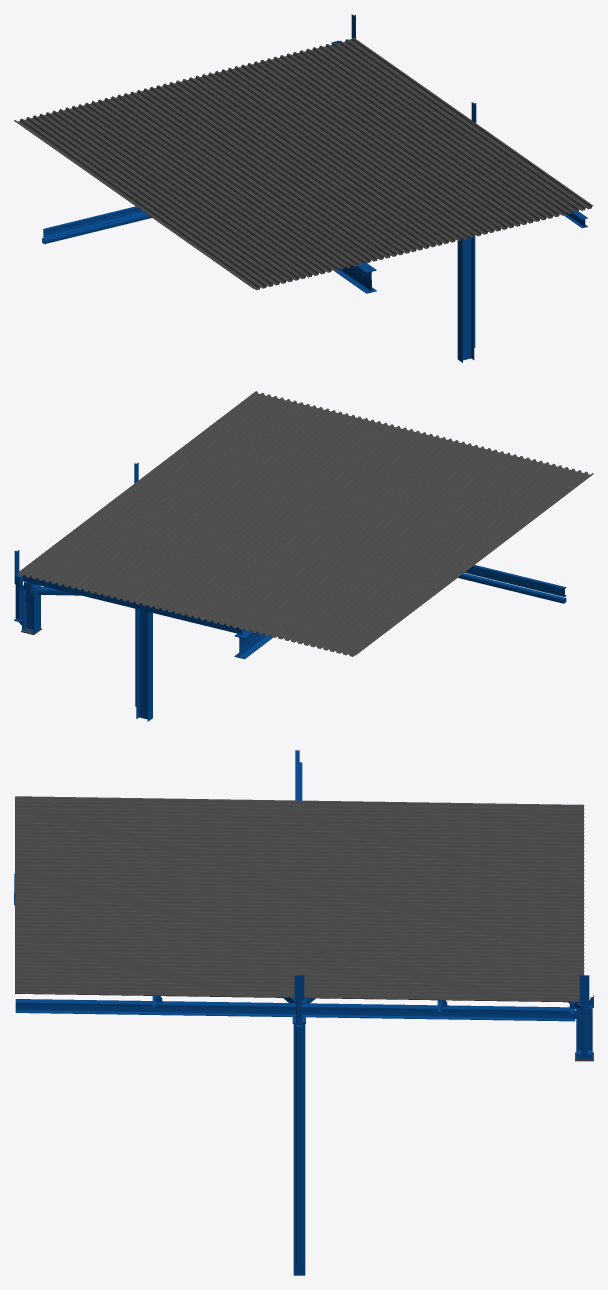
File: GCC-AAV-13220-30.nwd(8).fbx
3 views of the same model, one above another, from view 1: azimuth 30°, elevation 25°; view 2: azimuth 150°, elevation 25°; view 3: azimuth 270°, elevation 25° (orthographic). The views are drawn at different scales.
Visible parts, largest first — view 1: PANEL 2 of SBFRAMEWORK /13220-BD-001-211-5206/CS/KM1/SH/+13., PANEL 130 of SBFRAMEWORK /13220-BD-001-211-5206/CS/KM1/SH/+1, PANEL 26 of SBFRAMEWORK /13220-BD-001-211-5206/CS/KM1/SH/+13, PANEL 34 of SBFRAMEWORK /13220-BD-001-211-5206/CS/KM1/SH/+13, PANEL 98 of SBFRAMEWORK /13220-BD-001-211-5206/CS/KM1/SH/+13, PANEL 90 of SBFRAMEWORK /13220-BD-001-211-5206/CS/KM1/SH/+13, PANEL 106 of SBFRAMEWORK /13220-BD-001-211-5206/CS/KM1/SH/+1, PANEL 10 of SBFRAMEWORK /13220-BD-001-211-5206/CS/KM1/SH/+13, PANEL 18 of SBFRAMEWORK /13220-BD-001-211-5206/CS/KM1/SH/+13, PANEL 42 of SBFRAMEWORK /13220-BD-001-211-5206/CS/KM1/SH/+13, PANEL 114 of SBFRAMEWORK /13220-BD-001-211-5206/CS/KM1/SH/+1, PANEL 74 of SBFRAMEWORK /13220-BD-001-211-5206/CS/KM1/SH/+13 (+8 smaller); view 2: PANEL 2 of SBFRAMEWORK /13220-BD-001-211-5206/CS/KM1/SH/+13., PANEL 130 of SBFRAMEWORK /13220-BD-001-211-5206/CS/KM1/SH/+1, PANEL 10 of SBFRAMEWORK /13220-BD-001-211-5206/CS/KM1/SH/+13, PANEL 34 of SBFRAMEWORK /13220-BD-001-211-5206/CS/KM1/SH/+13, PANEL 74 of SBFRAMEWORK /13220-BD-001-211-5206/CS/KM1/SH/+13, PANEL 122 of SBFRAMEWORK /13220-BD-001-211-5206/CS/KM1/SH/+1, PANEL 50 of SBFRAMEWORK /13220-BD-001-211-5206/CS/KM1/SH/+13, PANEL 66 of SBFRAMEWORK /13220-BD-001-211-5206/CS/KM1/SH/+13, PANEL 82 of SBFRAMEWORK /13220-BD-001-211-5206/CS/KM1/SH/+13, PANEL 98 of SBFRAMEWORK /13220-BD-001-211-5206/CS/KM1/SH/+13, PANEL 18 of SBFRAMEWORK /13220-BD-001-211-5206/CS/KM1/SH/+13, PANEL 26 of SBFRAMEWORK /13220-BD-001-211-5206/CS/KM1/SH/+13 (+8 smaller); view 3: PANEL 2 of SBFRAMEWORK /13220-BD-001-211-5206/CS/KM1/SH/+13., Группа фасетов (×3), PANEL 130 of SBFRAMEWORK /13220-BD-001-211-5206/CS/KM1/SH/+1, PANEL 122 of SBFRAMEWORK /13220-BD-001-211-5206/CS/KM1/SH/+1, PANEL 18 of SBFRAMEWORK /13220-BD-001-211-5206/CS/KM1/SH/+13, PANEL 50 of SBFRAMEWORK /13220-BD-001-211-5206/CS/KM1/SH/+13, PANEL 58 of SBFRAMEWORK /13220-BD-001-211-5206/CS/KM1/SH/+13, PANEL 66 of SBFRAMEWORK /13220-BD-001-211-5206/CS/KM1/SH/+13, PANEL 82 of SBFRAMEWORK /13220-BD-001-211-5206/CS/KM1/SH/+13, PANEL 74 of SBFRAMEWORK /13220-BD-001-211-5206/CS/KM1/SH/+13, PANEL 90 of SBFRAMEWORK /13220-BD-001-211-5206/CS/KM1/SH/+13, PANEL 106 of SBFRAMEWORK /13220-BD-001-211-5206/CS/KM1/SH/+1 (+7 smaller).
Boxes of the visible parts, x1,y1,x2,y2 form: PANEL 2 of SBFRAMEWORK /13220-BD-001-211-5206/CS/KM1/SH/+13.: [326, 37, 593, 213]; PANEL 130 of SBFRAMEWORK /13220-BD-001-211-5206/CS/KM1/SH/+1: [14, 116, 278, 290]; PANEL 26 of SBFRAMEWORK /13220-BD-001-211-5206/CS/KM1/SH/+13: [268, 53, 532, 228]; PANEL 34 of SBFRAMEWORK /13220-BD-001-211-5206/CS/KM1/SH/+13: [248, 58, 515, 232]; PANEL 98 of SBFRAMEWORK /13220-BD-001-211-5206/CS/KM1/SH/+13: [92, 97, 356, 271]; PANEL 90 of SBFRAMEWORK /13220-BD-001-211-5206/CS/KM1/SH/+13: [112, 92, 376, 266]; PANEL 106 of SBFRAMEWORK /13220-BD-001-211-5206/CS/KM1/SH/+1: [73, 101, 337, 275]; PANEL 10 of SBFRAMEWORK /13220-BD-001-211-5206/CS/KM1/SH/+13: [307, 44, 571, 218]; PANEL 18 of SBFRAMEWORK /13220-BD-001-211-5206/CS/KM1/SH/+13: [288, 49, 551, 223]; PANEL 42 of SBFRAMEWORK /13220-BD-001-211-5206/CS/KM1/SH/+13: [229, 63, 493, 237]; PANEL 114 of SBFRAMEWORK /13220-BD-001-211-5206/CS/KM1/SH/+1: [53, 106, 317, 280]; PANEL 74 of SBFRAMEWORK /13220-BD-001-211-5206/CS/KM1/SH/+13: [151, 82, 415, 256]; PANEL 2 of SBFRAMEWORK /13220-BD-001-211-5206/CS/KM1/SH/+13.: [18, 391, 282, 580]; PANEL 130 of SBFRAMEWORK /13220-BD-001-211-5206/CS/KM1/SH/+1: [330, 469, 593, 656]; PANEL 10 of SBFRAMEWORK /13220-BD-001-211-5206/CS/KM1/SH/+13: [39, 398, 302, 585]; PANEL 34 of SBFRAMEWORK /13220-BD-001-211-5206/CS/KM1/SH/+13: [97, 412, 360, 599]; PANEL 74 of SBFRAMEWORK /13220-BD-001-211-5206/CS/KM1/SH/+13: [194, 436, 457, 623]; PANEL 122 of SBFRAMEWORK /13220-BD-001-211-5206/CS/KM1/SH/+1: [311, 464, 573, 652]; PANEL 50 of SBFRAMEWORK /13220-BD-001-211-5206/CS/KM1/SH/+13: [136, 421, 399, 609]; PANEL 66 of SBFRAMEWORK /13220-BD-001-211-5206/CS/KM1/SH/+13: [175, 431, 437, 618]; PANEL 82 of SBFRAMEWORK /13220-BD-001-211-5206/CS/KM1/SH/+13: [214, 440, 476, 628]; PANEL 98 of SBFRAMEWORK /13220-BD-001-211-5206/CS/KM1/SH/+13: [253, 450, 515, 637]; PANEL 18 of SBFRAMEWORK /13220-BD-001-211-5206/CS/KM1/SH/+13: [59, 402, 321, 590]; PANEL 26 of SBFRAMEWORK /13220-BD-001-211-5206/CS/KM1/SH/+13: [78, 407, 340, 595]; PANEL 2 of SBFRAMEWORK /13220-BD-001-211-5206/CS/KM1/SH/+13.: [15, 977, 579, 1002]; Группа фасетов (×3): [15, 999, 575, 1263]; PANEL 130 of SBFRAMEWORK /13220-BD-001-211-5206/CS/KM1/SH/+1: [15, 796, 584, 820]; PANEL 122 of SBFRAMEWORK /13220-BD-001-211-5206/CS/KM1/SH/+1: [15, 807, 584, 832]; PANEL 18 of SBFRAMEWORK /13220-BD-001-211-5206/CS/KM1/SH/+13: [15, 954, 584, 978]; PANEL 50 of SBFRAMEWORK /13220-BD-001-211-5206/CS/KM1/SH/+13: [15, 909, 584, 933]; PANEL 58 of SBFRAMEWORK /13220-BD-001-211-5206/CS/KM1/SH/+13: [15, 898, 584, 922]; PANEL 66 of SBFRAMEWORK /13220-BD-001-211-5206/CS/KM1/SH/+13: [15, 886, 584, 911]; PANEL 82 of SBFRAMEWORK /13220-BD-001-211-5206/CS/KM1/SH/+13: [15, 864, 584, 888]; PANEL 74 of SBFRAMEWORK /13220-BD-001-211-5206/CS/KM1/SH/+13: [15, 875, 584, 899]; PANEL 90 of SBFRAMEWORK /13220-BD-001-211-5206/CS/KM1/SH/+13: [15, 852, 584, 877]; PANEL 106 of SBFRAMEWORK /13220-BD-001-211-5206/CS/KM1/SH/+1: [15, 830, 584, 854].
Size of the model in its own units: 491 by 276 by 481.
